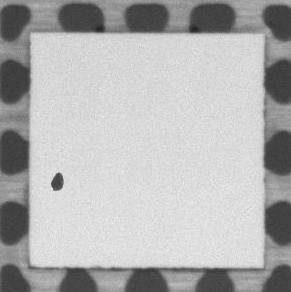DIE_INK: (49, 171, 66, 194)
